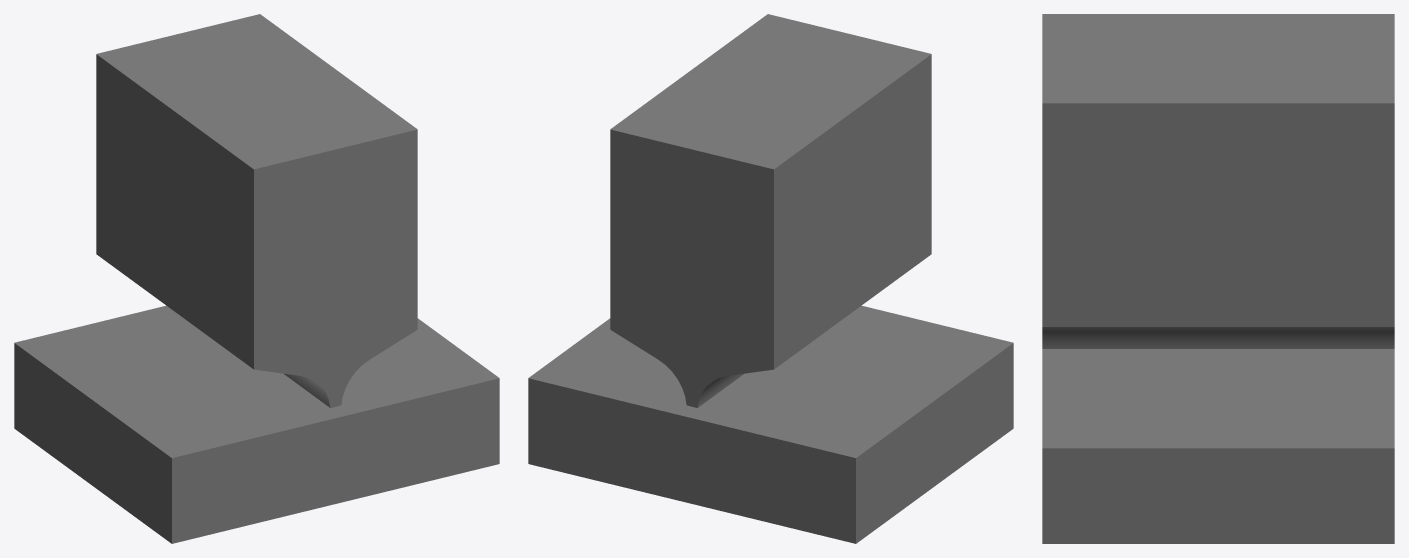
The model's file is Т5_Кромки.glb.
3 renders of one model, left to right at view 1: azimuth 30°, elevation 25°; view 2: azimuth 150°, elevation 25°; view 3: azimuth 270°, elevation 25°, orthographic. The views are drawn at different scales.
Visible parts, largest first — view 1: node_id3; view 2: node_id3; view 3: node_id3.
Part boxes in pixels (x1,y1,x2,y2): node_id3: (14, 14, 499, 543); node_id3: (528, 14, 1013, 543); node_id3: (1042, 14, 1394, 543).
Size of the model in its own units: 0.4955 by 0.512 by 0.4129.
Materials: 1 (1 with a texture image).
